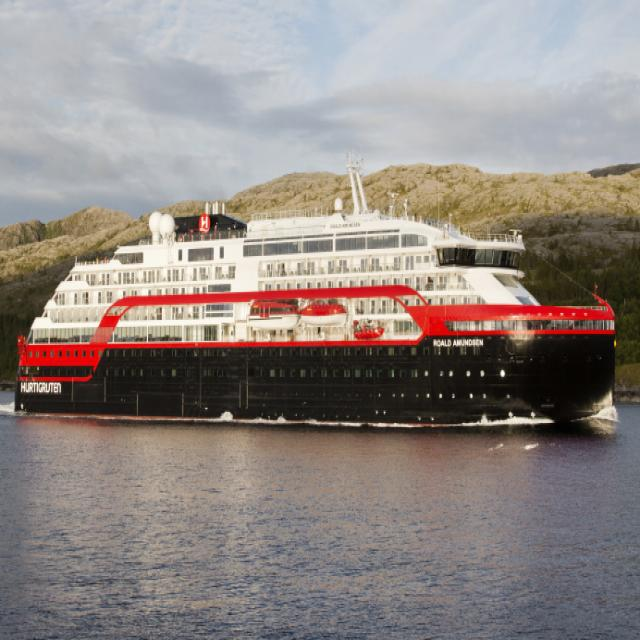cruises: (11, 156, 628, 440)
